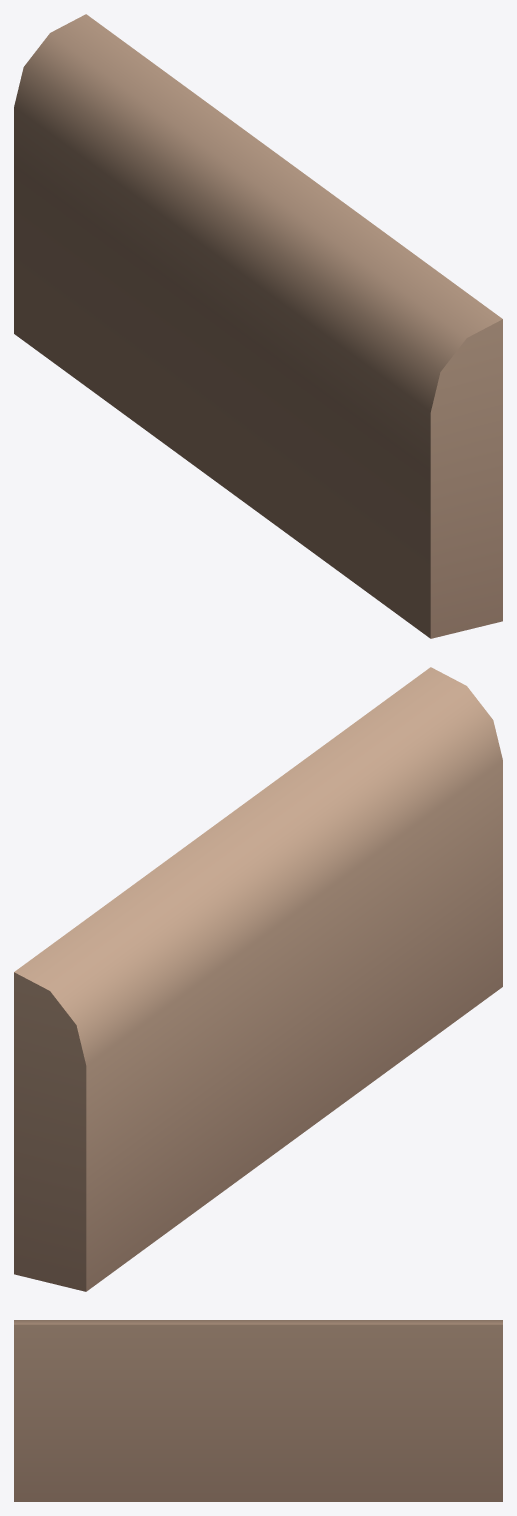
File: baseboard-rounded-half (%wall).glb
3 renders of one model, top to bottom at view 1: azimuth 30°, elevation 25°; view 2: azimuth 150°, elevation 25°; view 3: azimuth 270°, elevation 25°, orthographic. The views are drawn at different scales.
Parts seen in each view (by area): view 1: baseboard-rounded-half (%wall); view 2: baseboard-rounded-half (%wall); view 3: baseboard-rounded-half (%wall).
Part boxes in pixels (bbox=[...]): baseboard-rounded-half (%wall): bbox=[14, 14, 502, 638]; baseboard-rounded-half (%wall): bbox=[14, 667, 502, 1291]; baseboard-rounded-half (%wall): bbox=[14, 1320, 502, 1501].
Bounding box in the file's own units: 0.05 × 0.2 × 0.5.
